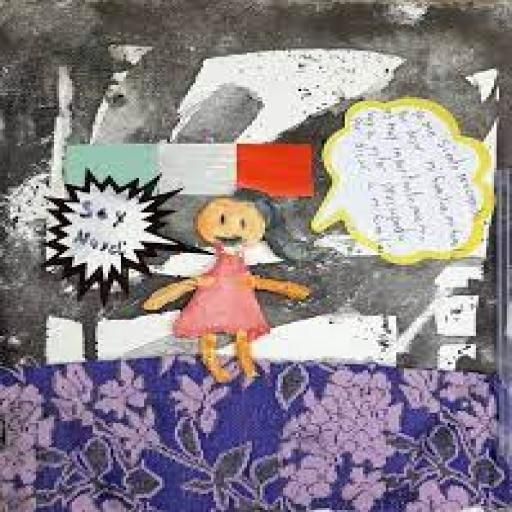person: (146, 194, 317, 390)
